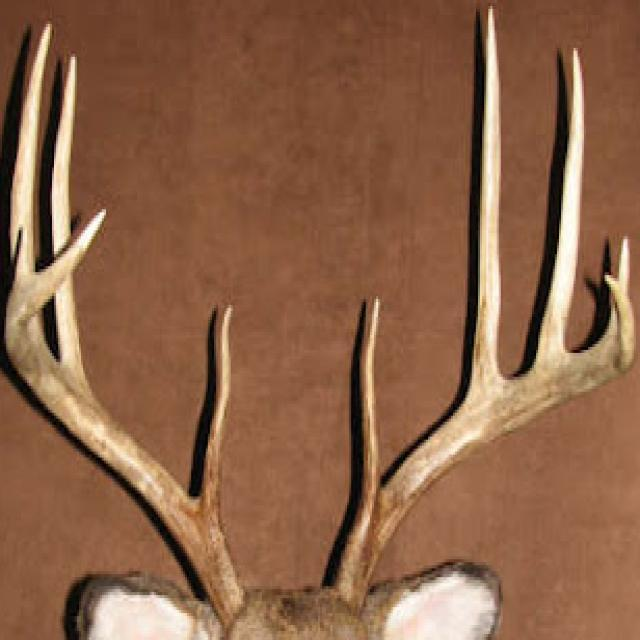L-F: (336, 272, 637, 611)
L-G1: (360, 295, 381, 501)
L-G2: (469, 4, 502, 392)
L-G3: (536, 45, 585, 355)
R-F: (5, 207, 241, 624)
R-G1: (202, 303, 234, 518)
